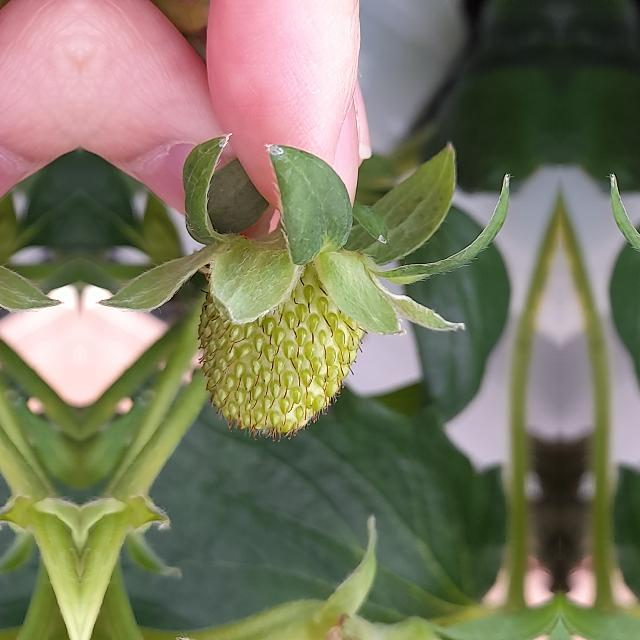Health_25: (195, 233, 377, 442)
